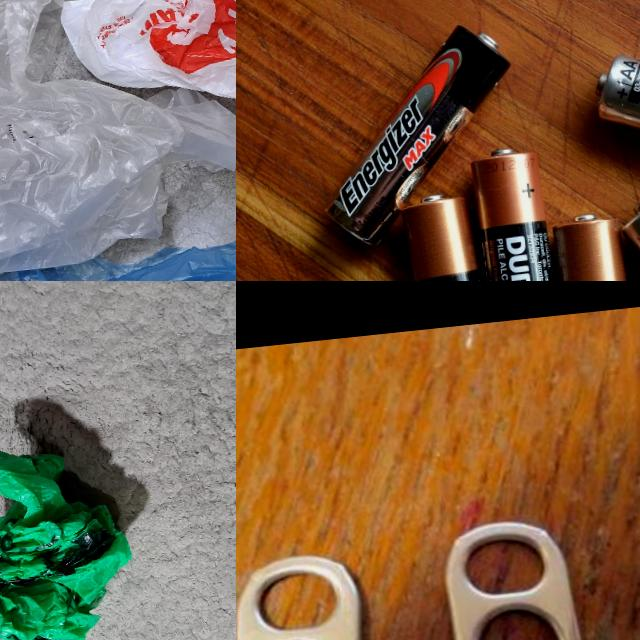aba de lata: (439, 513, 593, 640), (236, 549, 377, 640)
bateria: (308, 21, 532, 254), (464, 143, 569, 281), (403, 189, 512, 281), (545, 209, 640, 281)
sacola plástica: (0, 0, 236, 281), (0, 146, 236, 281), (35, 0, 236, 139)
